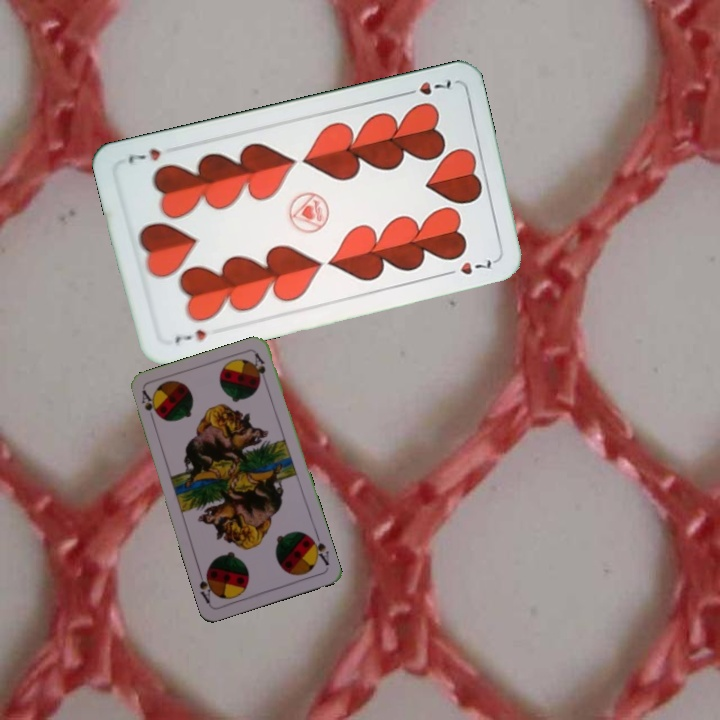H7: (398, 75, 454, 99), (170, 325, 209, 346)
SA: (305, 529, 332, 568), (137, 386, 161, 426)
